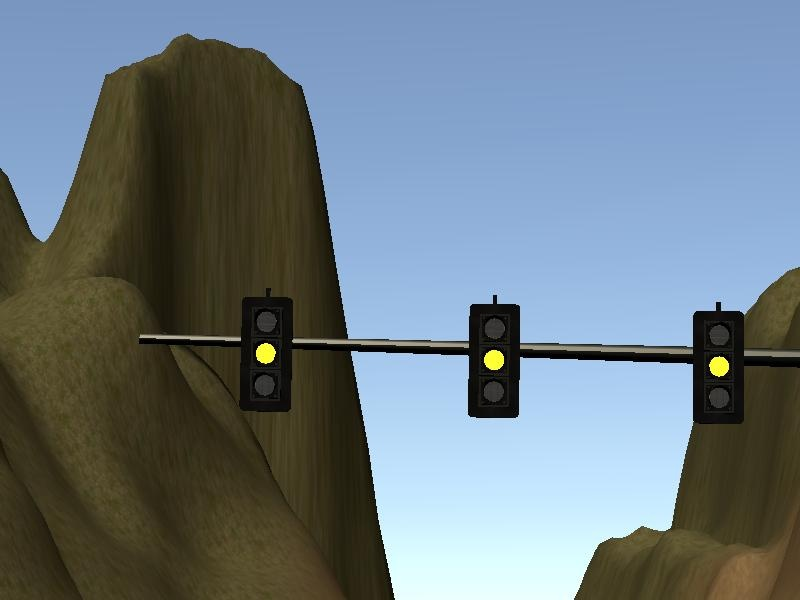YELLOW: (239, 292, 293, 411), (466, 299, 520, 418), (692, 304, 746, 423)
